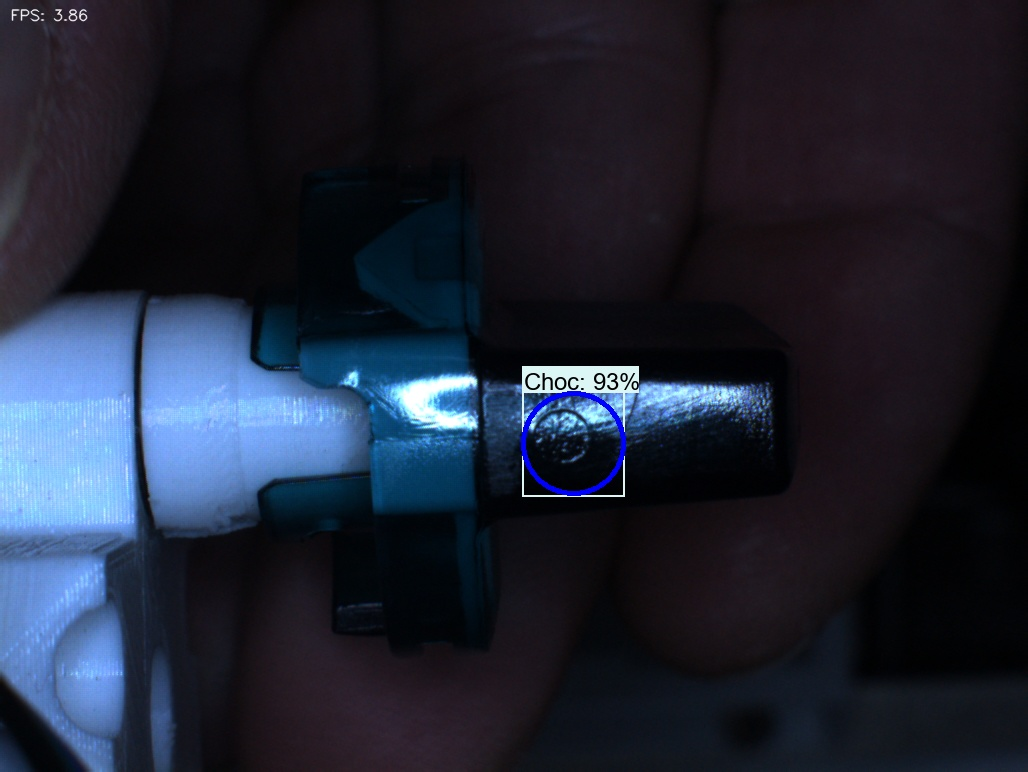DentOk: (322, 220, 398, 308)
